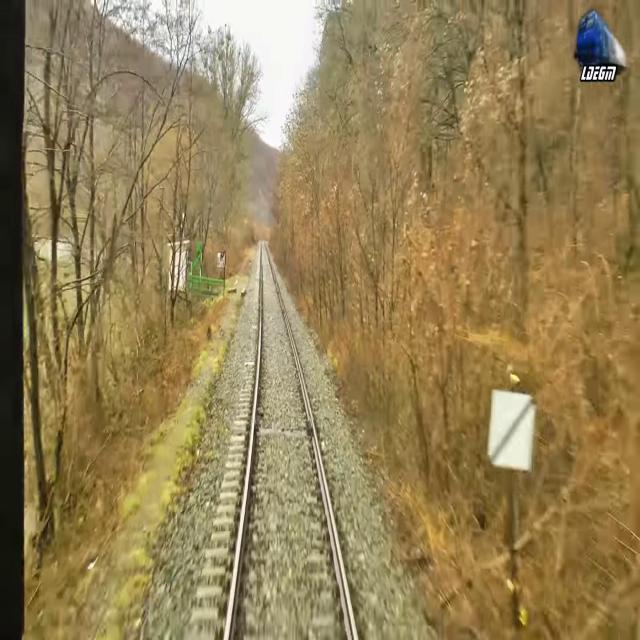rail-track: (228, 241, 353, 639)
